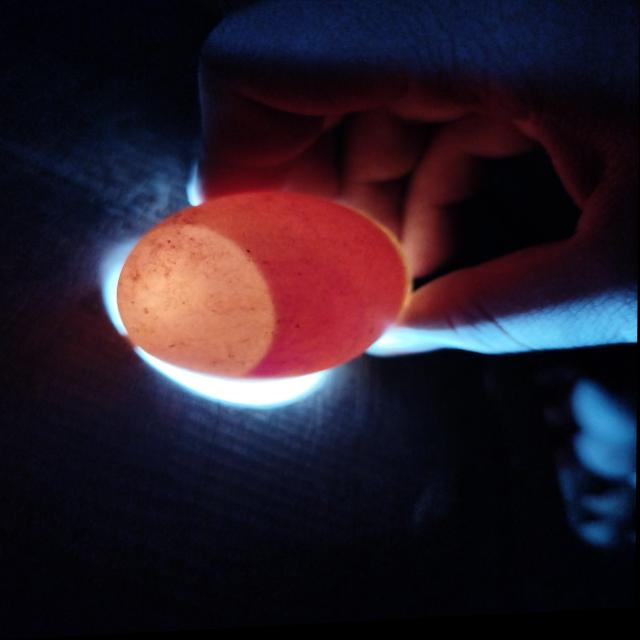Camara de Ar: (117, 225, 275, 382)
Gema Quebrada: (157, 194, 409, 383)
